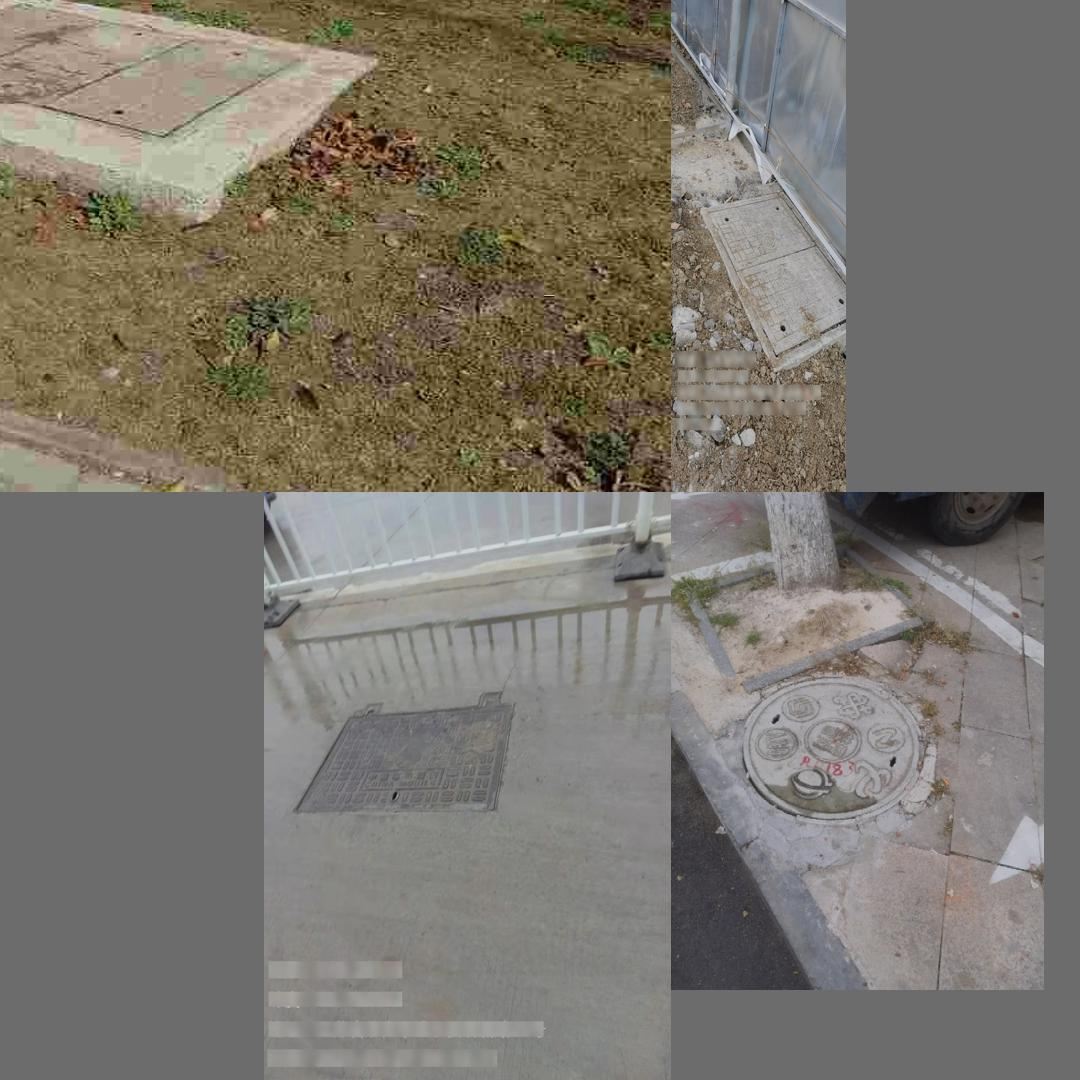good: (0, 1, 309, 144), (288, 695, 527, 819), (743, 680, 926, 822), (704, 194, 845, 369)
